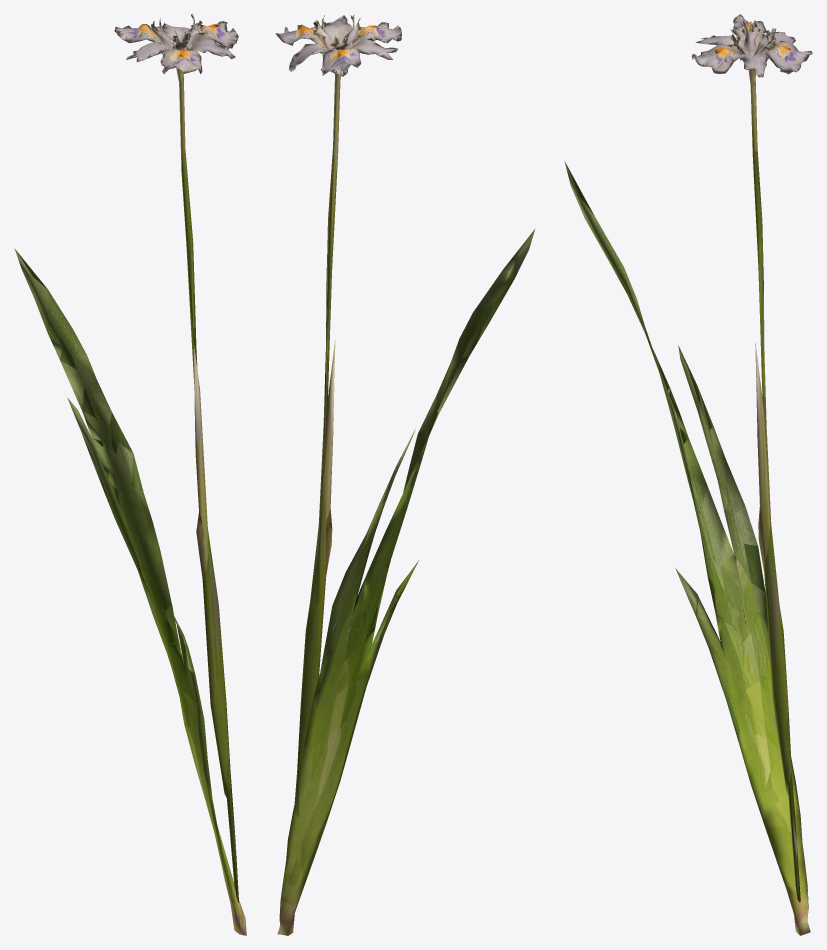
File: iris_japonica_lod1.glb
3 views of the same model, side by side, from view 1: azimuth 30°, elevation 25°; view 2: azimuth 150°, elevation 25°; view 3: azimuth 330°, elevation 25° (orthographic). The views are drawn at different scales.
Visible parts, largest first — view 1: LeafFan, FlowerStem; view 2: LeafFan, FlowerStem; view 3: LeafFan, FlowerStem.
Part boxes in pixels (x1,y1,x2,y2): LeafFan: (14, 248, 246, 935); FlowerStem: (114, 14, 238, 902); LeafFan: (277, 229, 534, 935); FlowerStem: (275, 15, 401, 802); LeafFan: (564, 161, 810, 935); FlowerStem: (691, 14, 812, 902).
Bounding box in the file's own units: 0.1203 × 0.4358 × 0.0558.
Materials: 2 (2 with a texture image).
